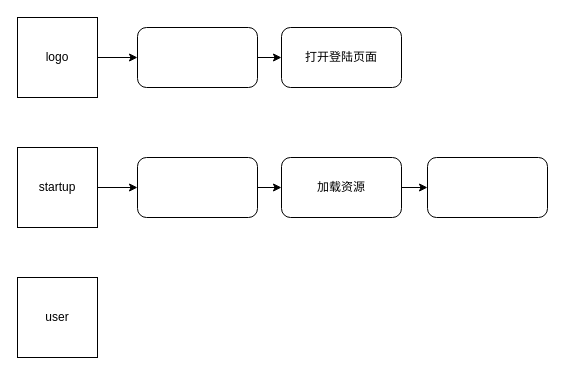
The diagram is 565 pixels wide and 375 high, and some of its shapes have lost their labels. The shapes that lost their labels are listed below. From the top down, each one's centre as x and y in pixels, then its label:
At (197,57): "加载语言包".
At (197,187): "打开大背景".
At (487,187): "登陆请求".
